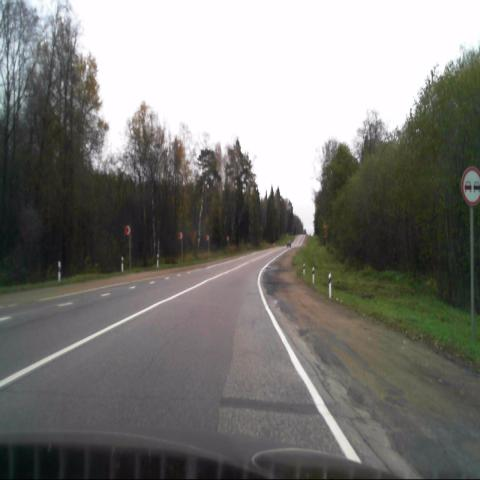3_20: (462, 167, 480, 206)
